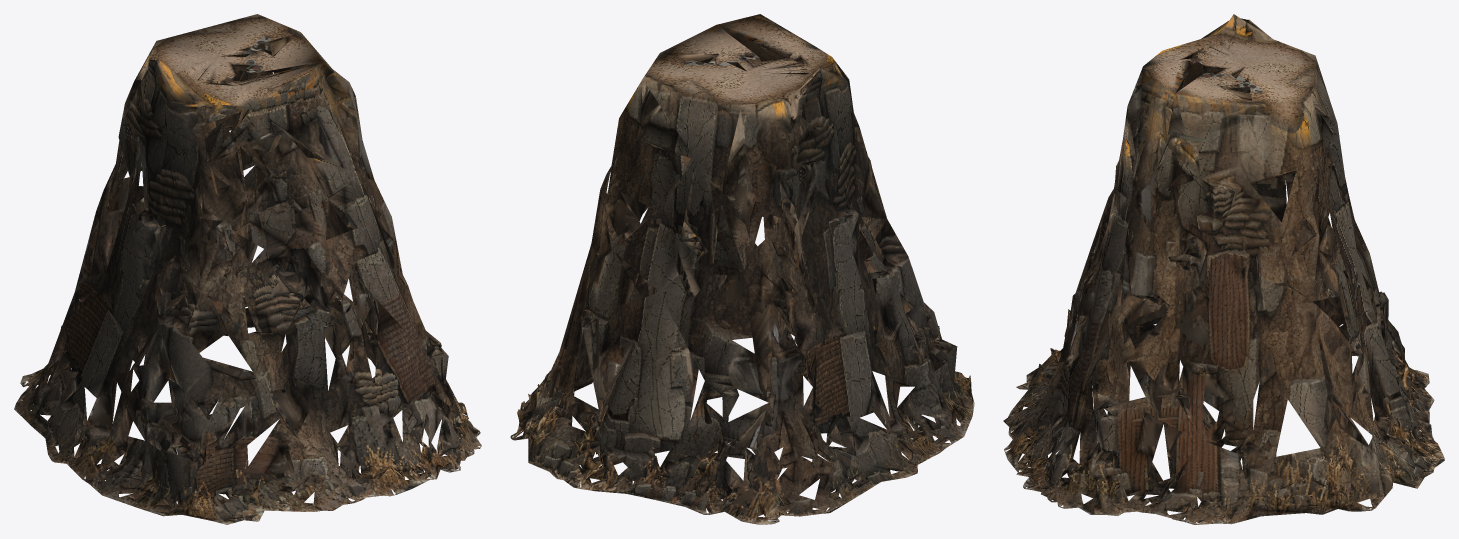
Rendered from prop_hill.glb.
3 views of the same model, side by side, from view 1: azimuth 30°, elevation 25°; view 2: azimuth 150°, elevation 25°; view 3: azimuth 270°, elevation 25° (orthographic).
Parts seen in each view (by area): view 1: texture_mapping; view 2: texture_mapping; view 3: texture_mapping.
Part boxes in pixels (<box>): texture_mapping: <box>14,14,481,524</box>; texture_mapping: <box>510,14,974,524</box>; texture_mapping: <box>1003,14,1444,524</box>.
Size of the model in its own units: 0.9606 by 0.9401 by 0.9899.
1 material, 1 textured.
